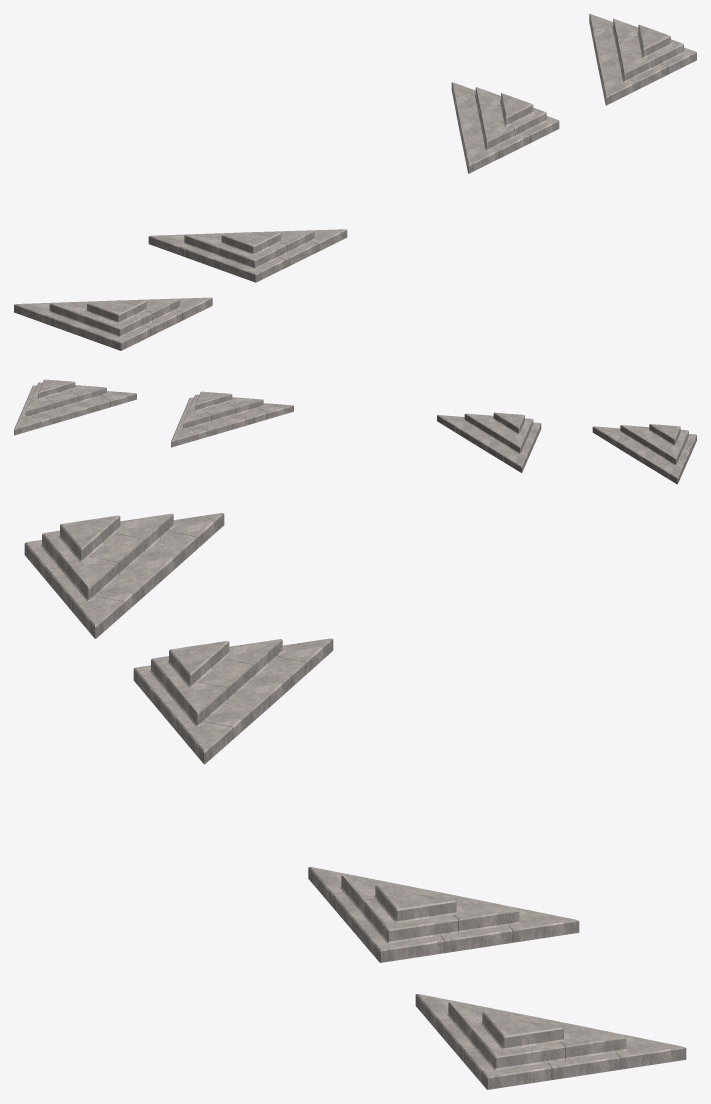
Rendered from Gsp_Triangle_A.FBX.
3 renders of one model, top to bottom at view 1: azimuth 30°, elevation 25°; view 2: azimuth 150°, elevation 25°; view 3: azimuth 270°, elevation 25°, orthographic. The views are drawn at different scales.
Visible parts, largest first — view 1: Gsp_Triangle_001, Gsp_Triangle_, Gsp_Triangle_002, Gsp_Triangle_003; view 2: Gsp_Triangle_002, Gsp_Triangle_003, Gsp_Triangle_001, Gsp_Triangle_; view 3: Gsp_Triangle_, Gsp_Triangle_001, Gsp_Triangle_002, Gsp_Triangle_003.
Part boxes in pixels (bbox=[...]): Gsp_Triangle_001: bbox=[148, 229, 347, 282]; Gsp_Triangle_: bbox=[14, 297, 212, 350]; Gsp_Triangle_002: bbox=[451, 82, 559, 173]; Gsp_Triangle_003: bbox=[589, 14, 696, 105]; Gsp_Triangle_002: bbox=[171, 391, 293, 447]; Gsp_Triangle_003: bbox=[14, 379, 136, 435]; Gsp_Triangle_001: bbox=[437, 412, 541, 472]; Gsp_Triangle_: bbox=[592, 424, 696, 484]; Gsp_Triangle_: bbox=[24, 513, 224, 638]; Gsp_Triangle_001: bbox=[133, 638, 333, 764]; Gsp_Triangle_002: bbox=[308, 867, 579, 962]; Gsp_Triangle_003: bbox=[415, 994, 686, 1089].
Size of the model in its own units: 1999 by 62.94 by 989.
1 material, 1 textured.
